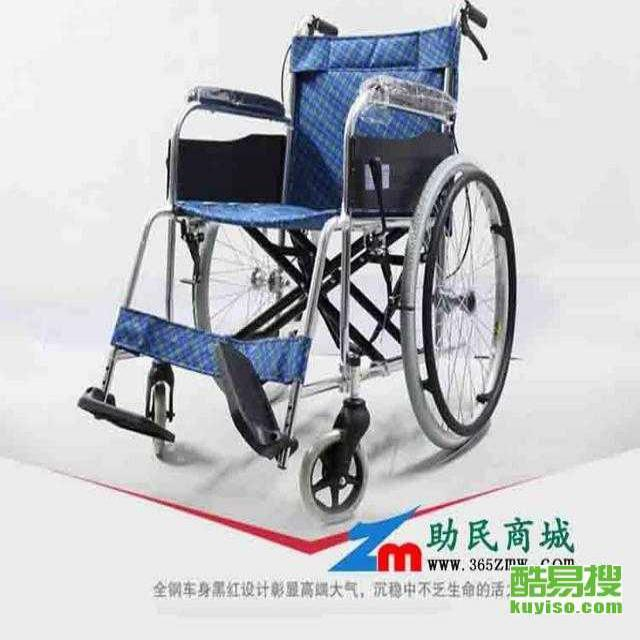wheelchair: (73, 7, 522, 526)
